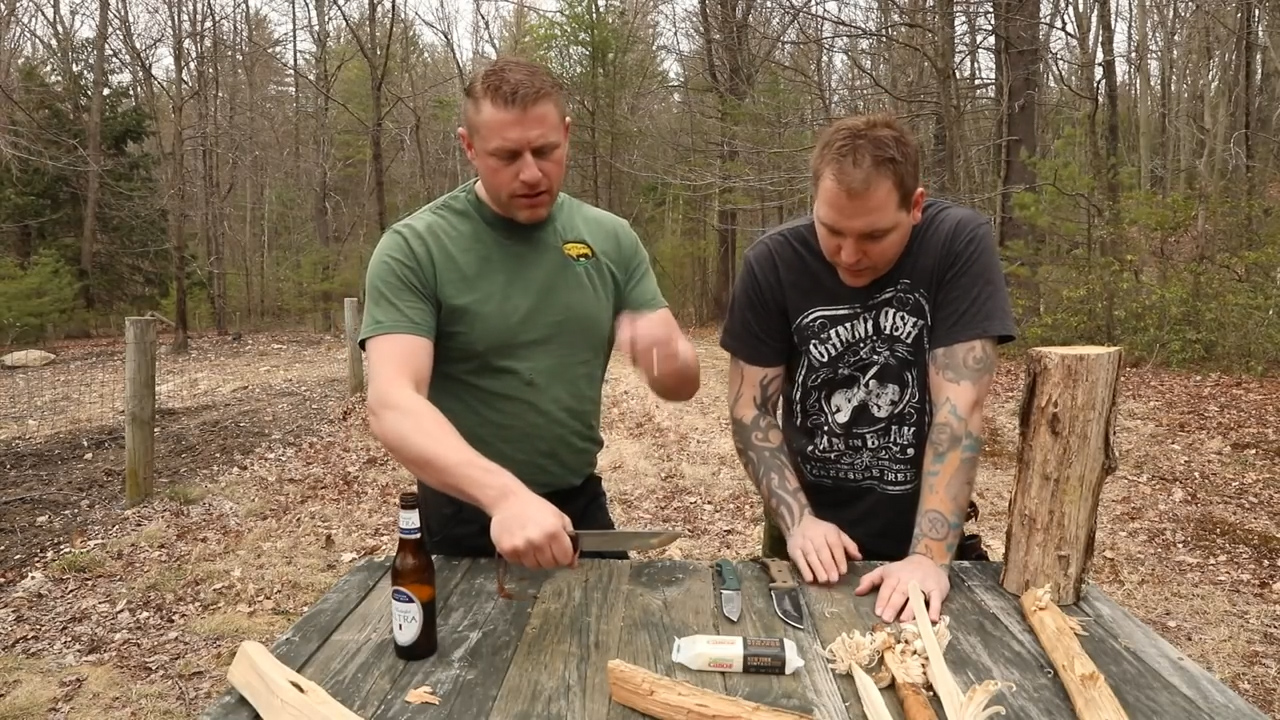knife: (502, 507, 698, 580)
